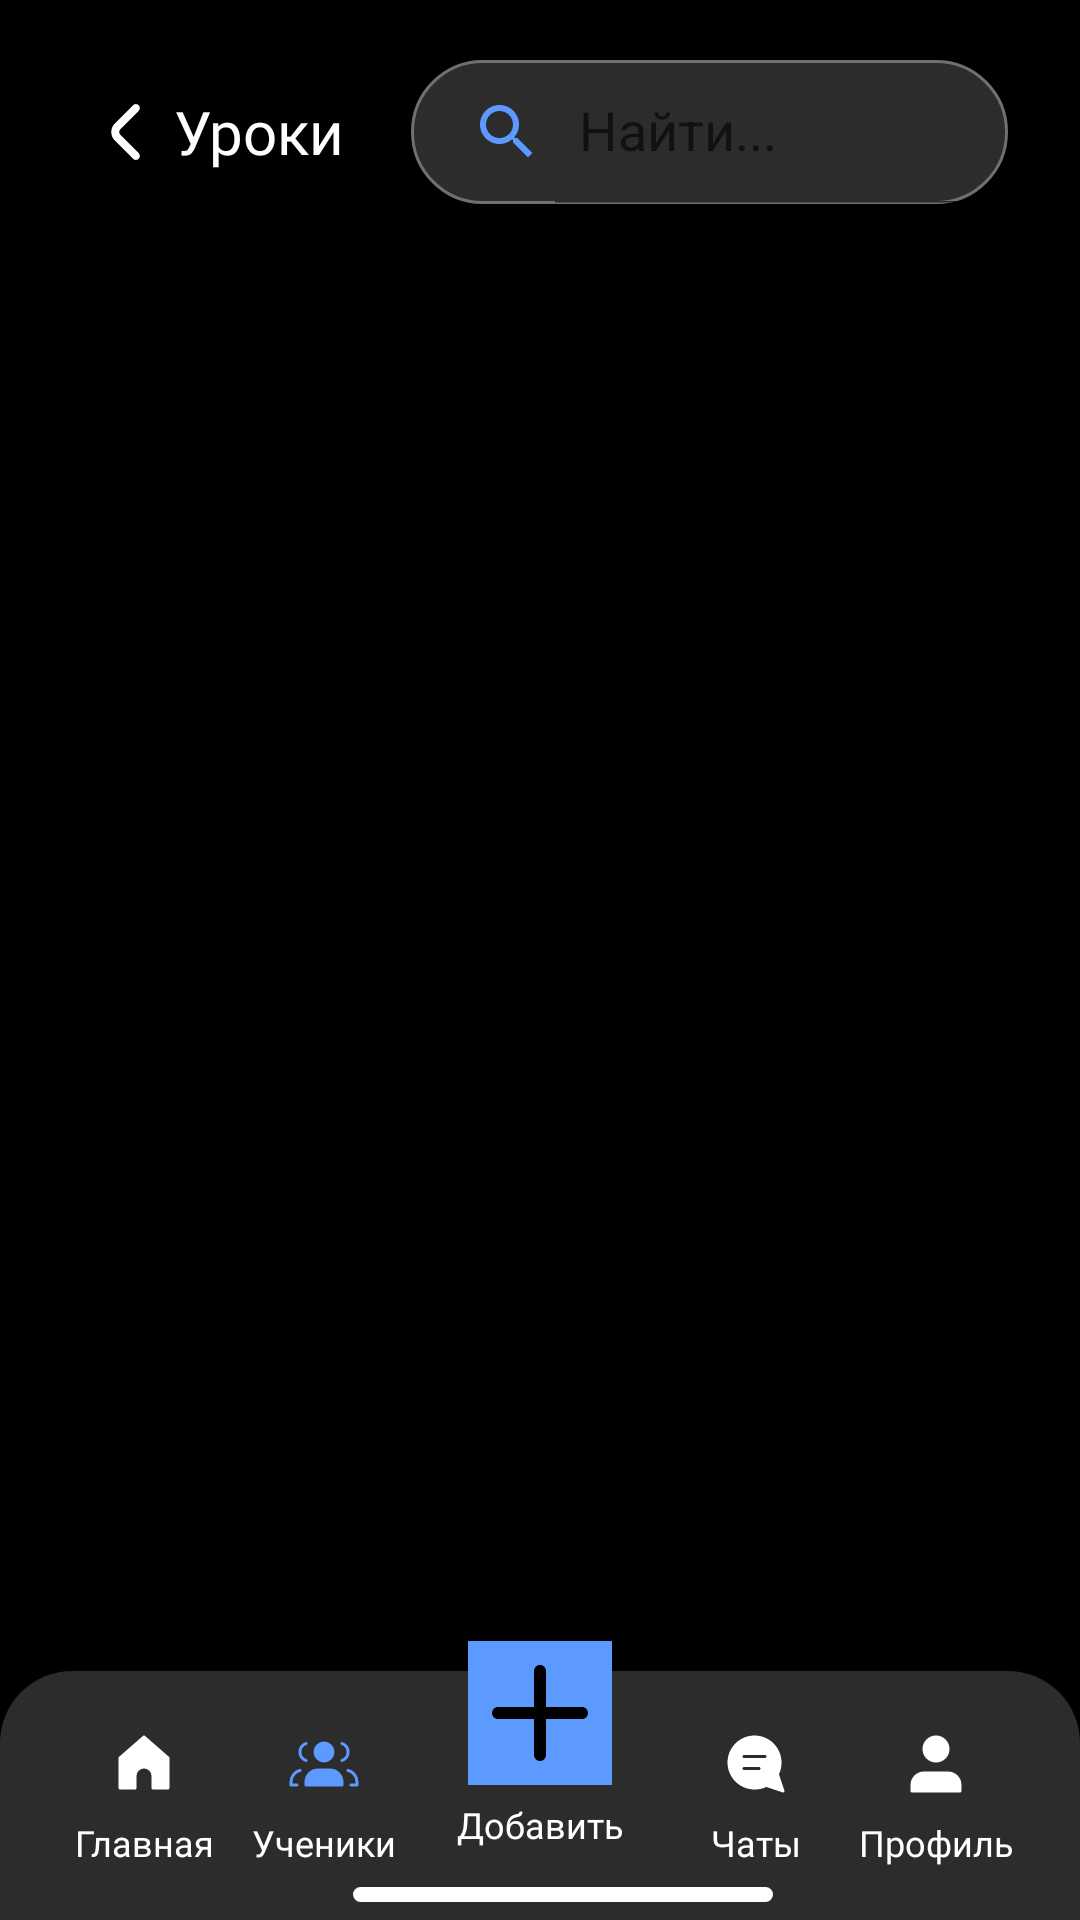

Where to tap for icons on this 1080 × 1920 app screen, as [x,y]:
message: [756,1764]
user: [936,1764]
users: [324,1764]
